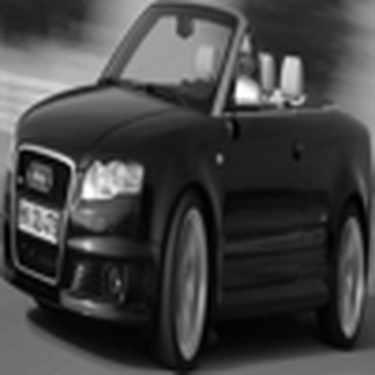car: (11, 1, 373, 330)
